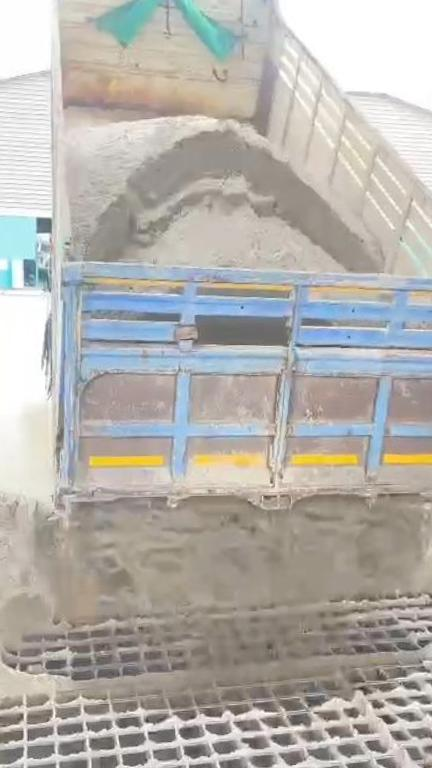sand: (0, 486, 432, 699), (63, 116, 384, 272), (425, 632, 432, 660), (429, 761, 432, 768)
